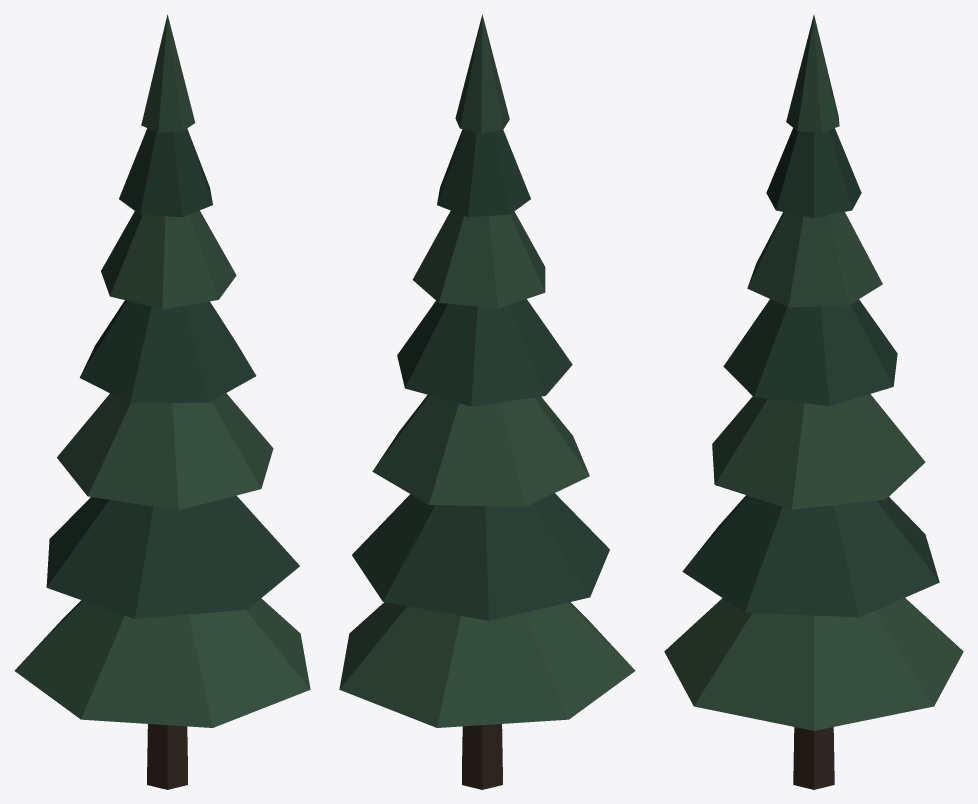
File: pine.glb
3 renders of one model, left to right at view 1: azimuth 30°, elevation 25°; view 2: azimuth 150°, elevation 25°; view 3: azimuth 270°, elevation 25°, orthographic.
Visible parts, largest first — view 1: pine; view 2: pine; view 3: pine.
Boxes of the visible parts, box(x1,y1,x2,y2) form: pine: box(14, 14, 310, 789); pine: box(339, 14, 635, 789); pine: box(664, 15, 963, 789).
Size of the model in its own units: 4.18 by 12.1 by 4.29.
